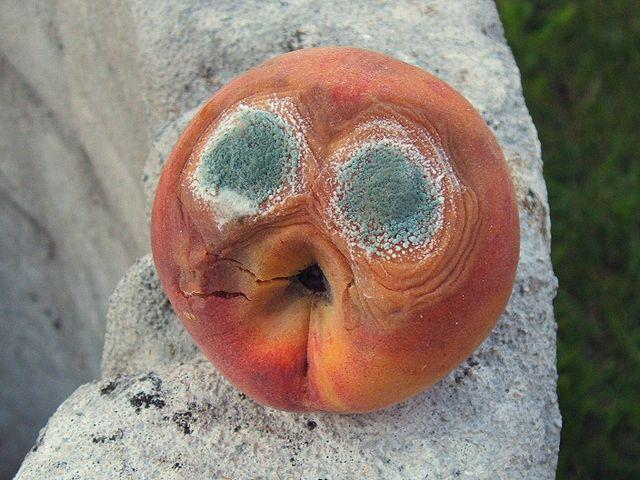Peach Rotten: (153, 48, 518, 411)
